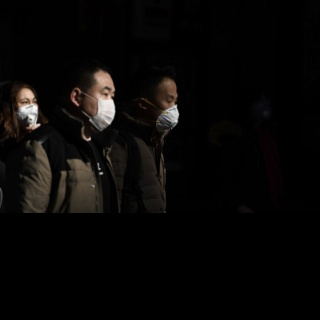with_mask: (88, 84, 116, 131), (155, 92, 179, 131), (17, 96, 40, 128)
